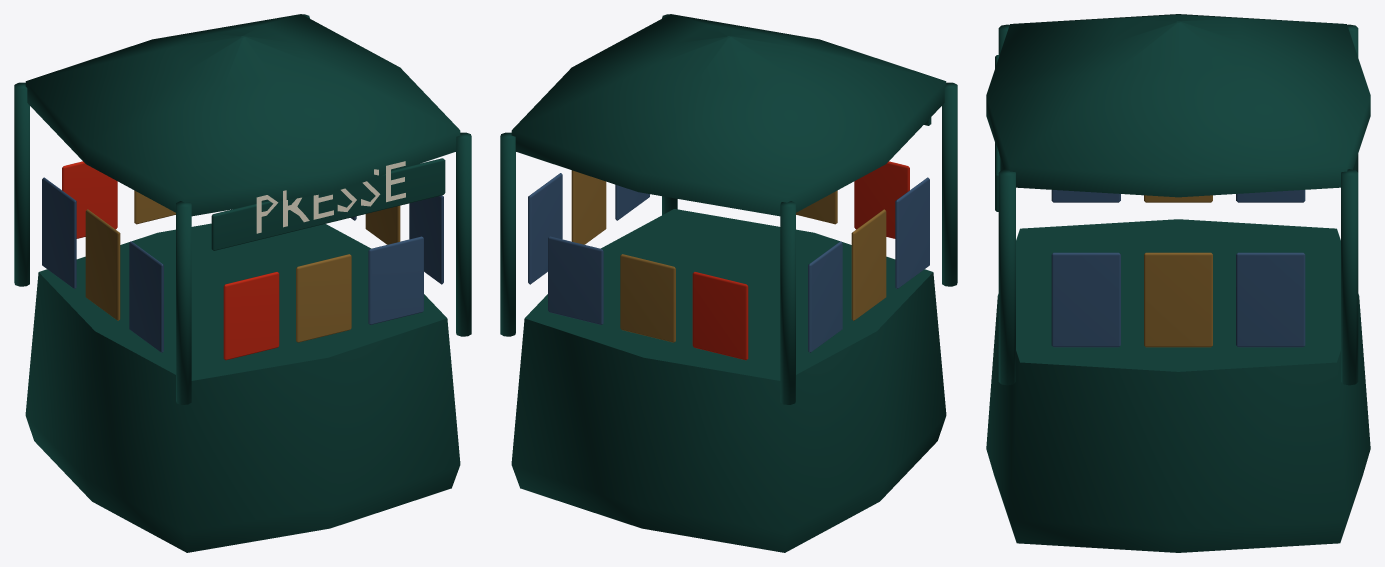
File: newspaper-kiosk.glb
The picture shows the model from 3 angles, left to right: view 1: azimuth 30°, elevation 25°; view 2: azimuth 150°, elevation 25°; view 3: azimuth 270°, elevation 25°; orthographic projection. The views are drawn at different scales.
Parts seen in each view (by area): view 1: newspaper-kiosk; view 2: newspaper-kiosk; view 3: newspaper-kiosk.
Boxes of the visible parts, bbox=[...] form: newspaper-kiosk: bbox=[14, 14, 471, 552]; newspaper-kiosk: bbox=[500, 14, 957, 552]; newspaper-kiosk: bbox=[986, 14, 1370, 552].
Bounding box in the file's own units: 2 × 2.6 × 2.
Materials: 1 (1 with a texture image).
